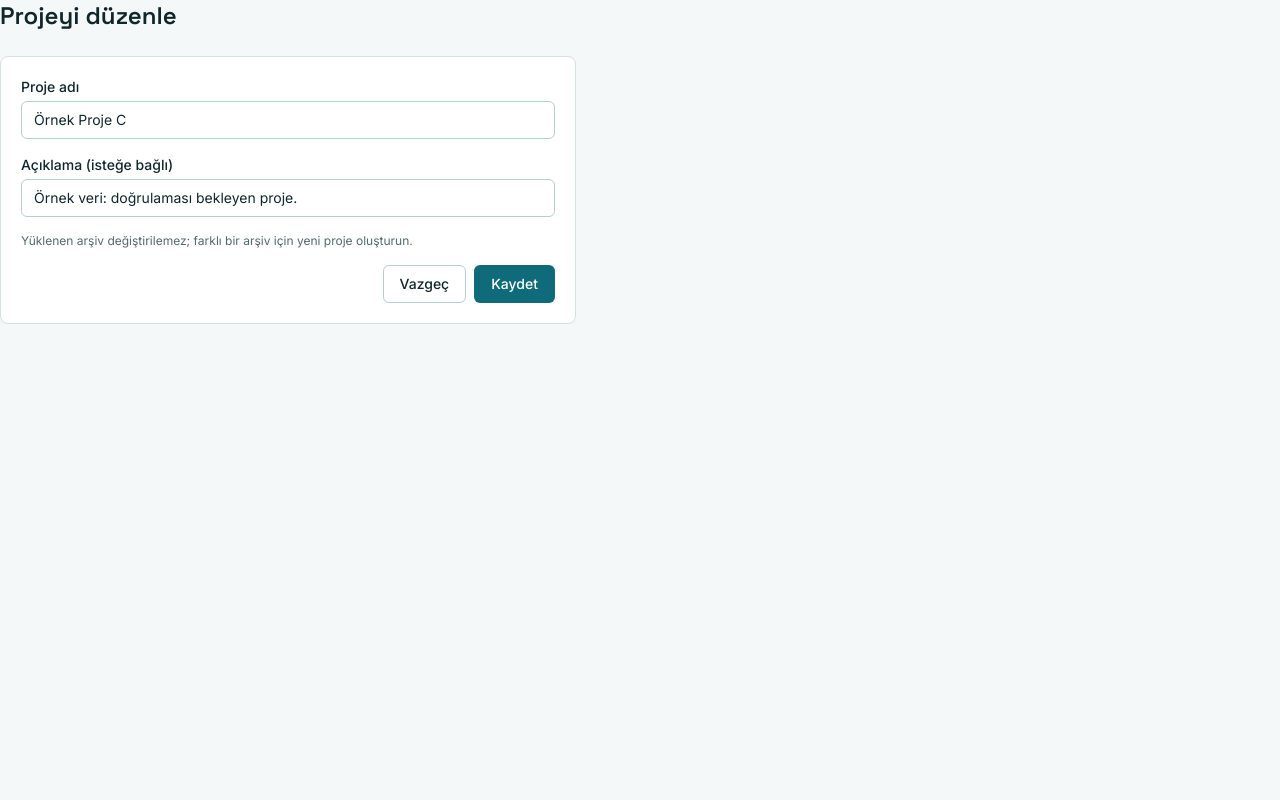
Scenario: düzenleme: ad güncellenir ve detaya dönülür; boş ad reddedilir
Clear the field labelled "Proje adı" at (288, 120), box x1=21 y1=101 x2=555 y2=139
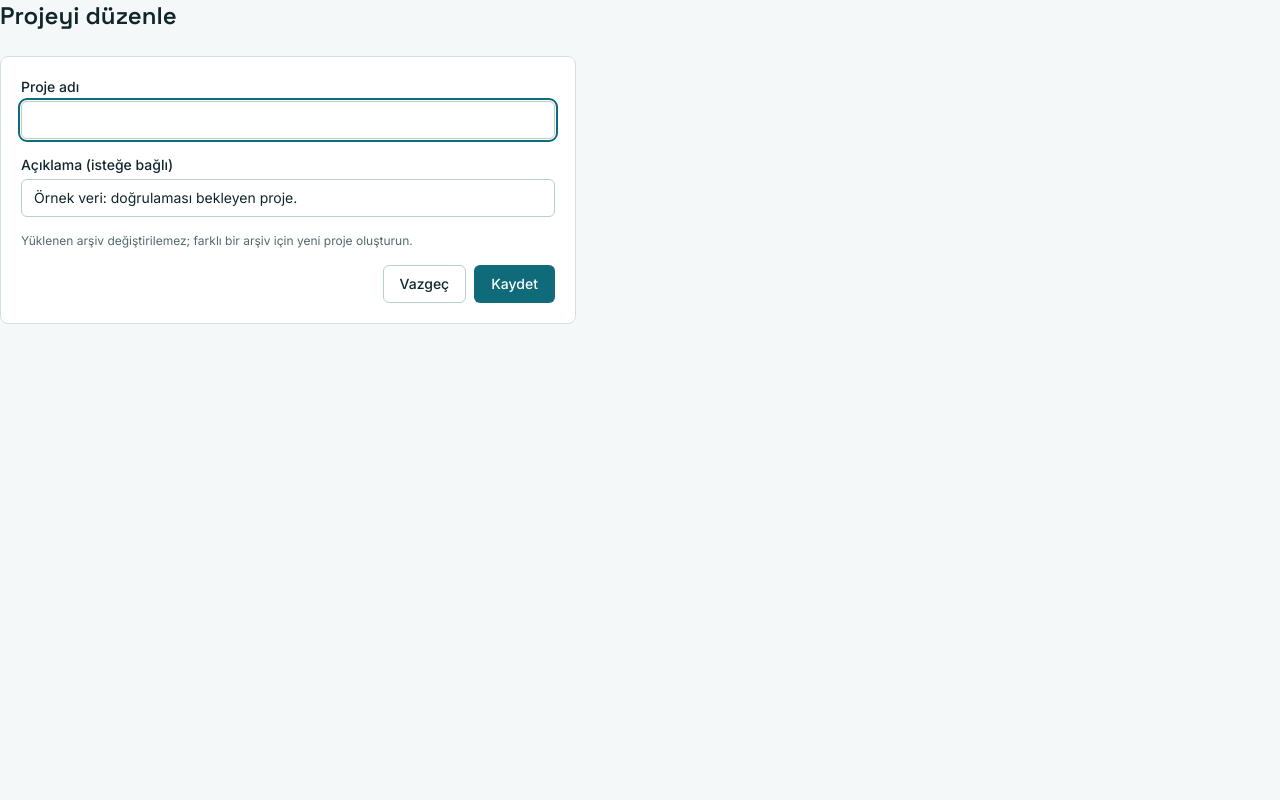
Click the button "Kaydet" at (515, 284), box x1=474 y1=265 x2=555 y2=303
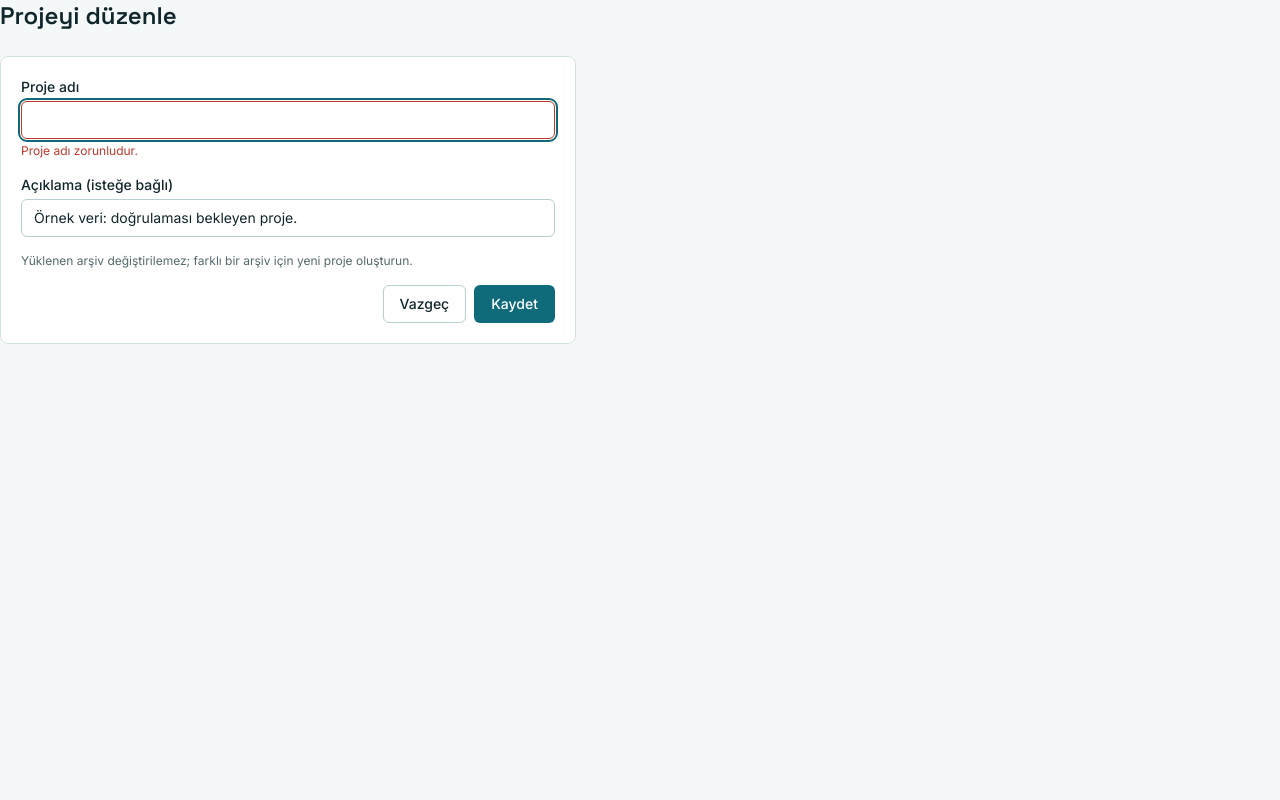
Result: the text "Proje adı zorunludur." is shown at x1=21 y1=143 x2=138 y2=158
Type "Yeniden Adlandı" into the field labelled "Proje adı" at (288, 120), box x1=21 y1=101 x2=555 y2=139
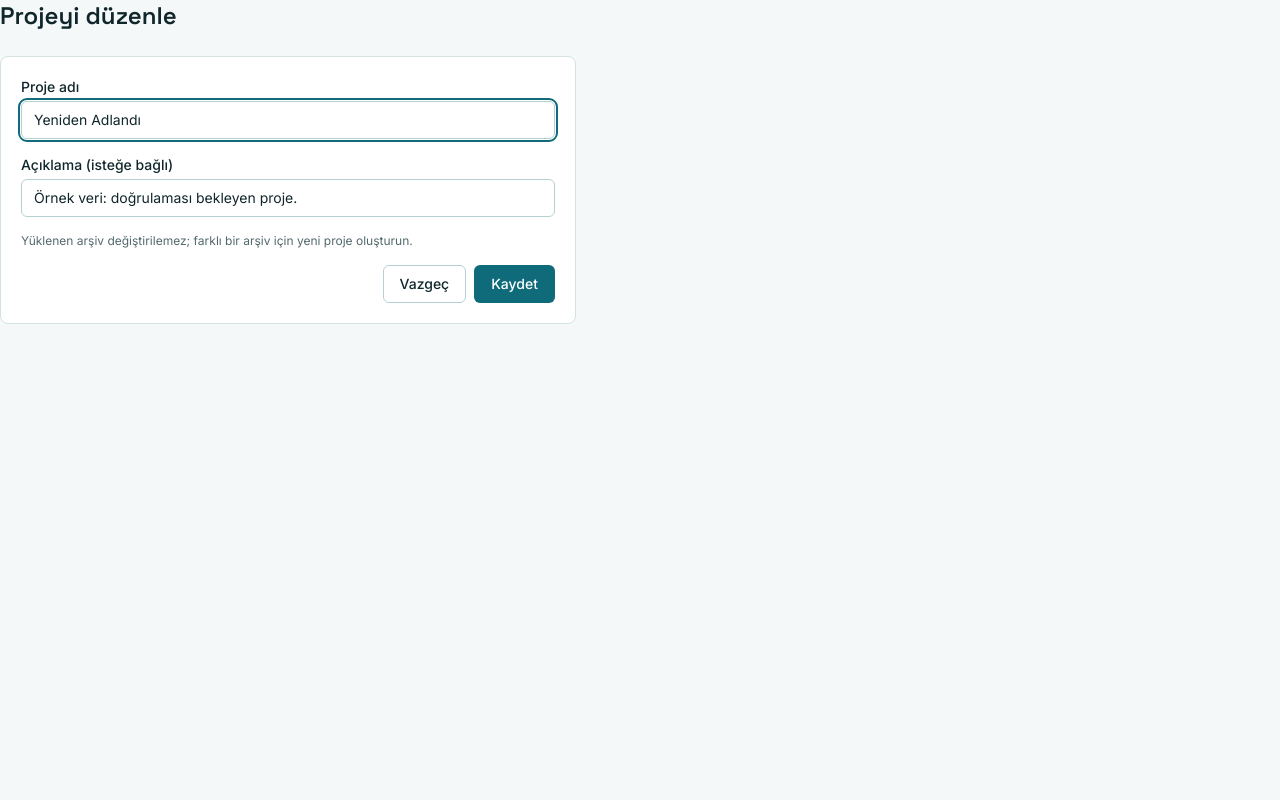
Click the button "Kaydet" at (515, 284), box x1=474 y1=265 x2=555 y2=303
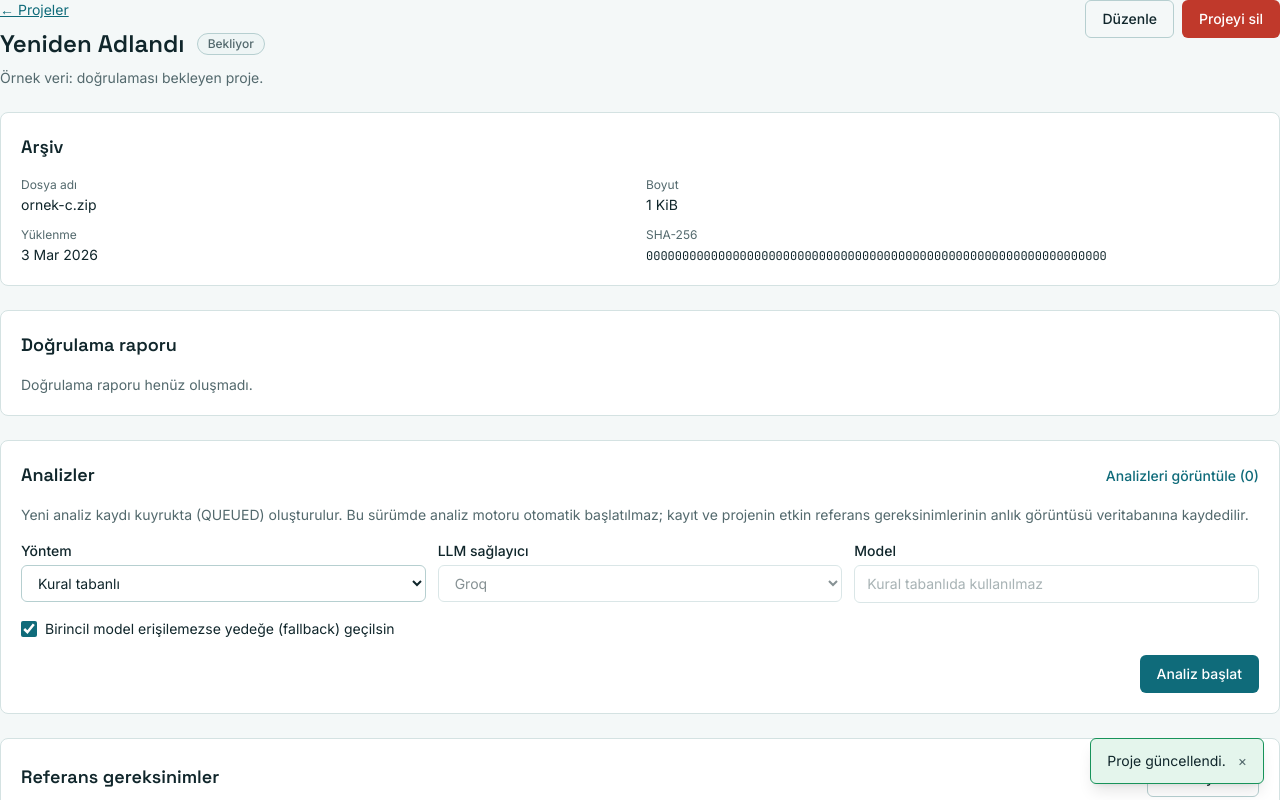
Result: the heading "Yeniden Adlandı" is shown at x1=0 y1=28 x2=185 y2=60
